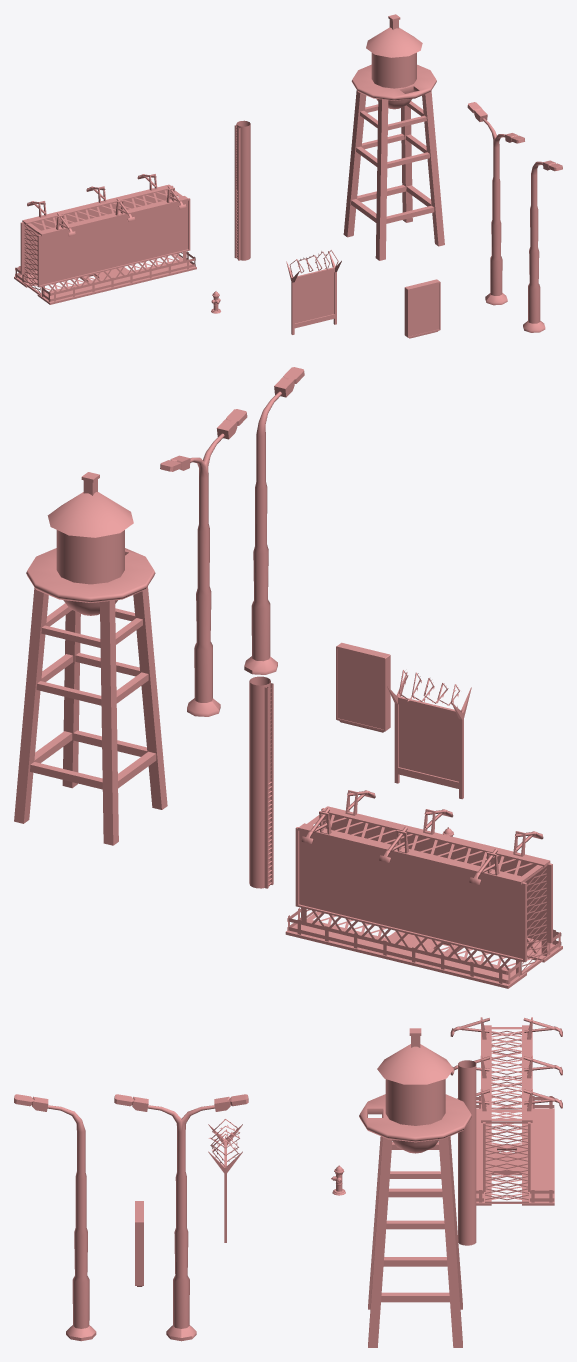
The model's file is Props_Exterior_1.fbx.
The picture shows the model from 3 angles, top to bottom: view 1: azimuth 30°, elevation 25°; view 2: azimuth 150°, elevation 25°; view 3: azimuth 270°, elevation 25°; orthographic projection. The views are drawn at different scales.
Visible parts, largest first — view 1: Overhead_Billboard, WaterTower, Barb_Wire_Fence, Pillar, Lamp_Single1, Ground_Billboard, Lamp_Single; view 2: Overhead_Billboard, WaterTower, Barb_Wire_Fence, Pillar, Lamp_Single1, Lamp_Single, Ground_Billboard; view 3: WaterTower, Overhead_Billboard, Lamp_Single1, Lamp_Single, Pillar, Barb_Wire_Fence, Ground_Billboard.
Boxes of the visible parts, x1,y1,x2,y2 form: Overhead_Billboard: [14, 174, 196, 304]; WaterTower: [343, 14, 444, 260]; Barb_Wire_Fence: [286, 250, 341, 334]; Pillar: [234, 120, 250, 260]; Lamp_Single1: [467, 102, 524, 305]; Ground_Billboard: [404, 279, 440, 338]; Lamp_Single: [523, 160, 562, 332]; Overhead_Billboard: [285, 790, 562, 988]; WaterTower: [14, 472, 167, 845]; Barb_Wire_Fence: [387, 670, 471, 799]; Pillar: [249, 676, 273, 888]; Lamp_Single1: [160, 409, 247, 716]; Lamp_Single: [244, 367, 304, 674]; Ground_Billboard: [336, 642, 390, 732]; WaterTower: [359, 1028, 471, 1347]; Overhead_Billboard: [450, 1017, 562, 1205]; Lamp_Single1: [114, 1094, 248, 1341]; Lamp_Single: [14, 1094, 96, 1341]; Pillar: [458, 1060, 476, 1245]; Barb_Wire_Fence: [208, 1119, 242, 1242]; Ground_Billboard: [135, 1201, 143, 1286].
Size of the model in its own units: 1641 by 952 by 1602.
